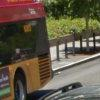Bus: (1, 3, 54, 97)
